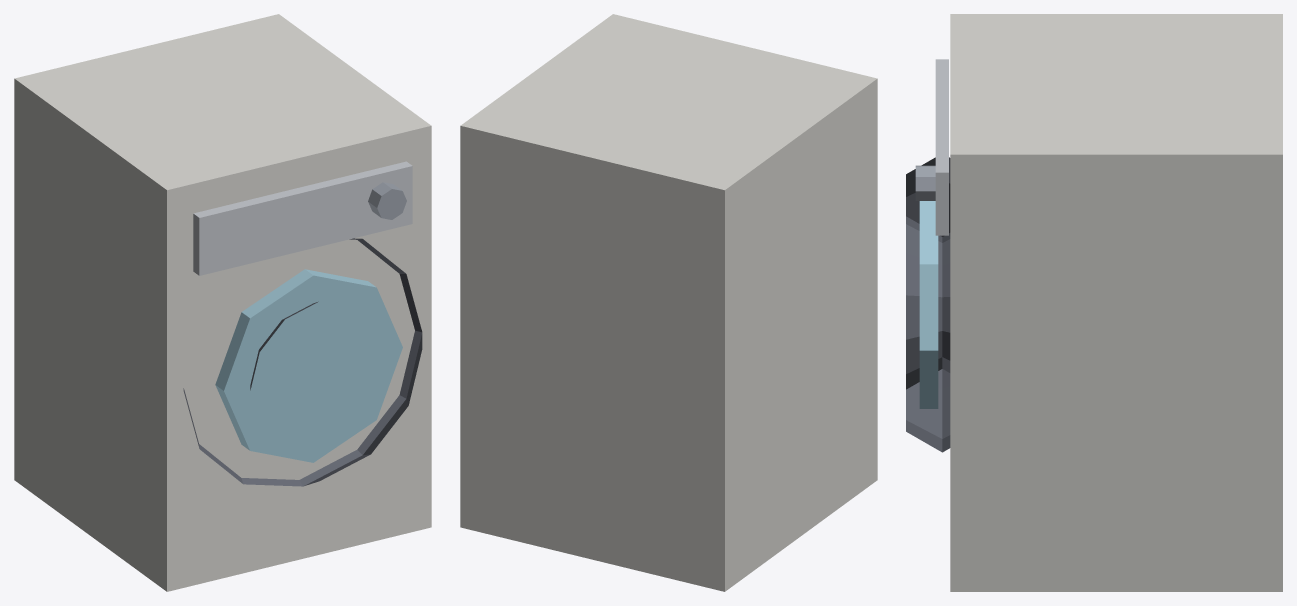
3 views of the same model, side by side, from view 1: azimuth 30°, elevation 25°; view 2: azimuth 150°, elevation 25°; view 3: azimuth 270°, elevation 25° (orthographic). The views are drawn at different scales.
Parts seen in each view (by area): view 1: Body, Window, Panel, Door, Dial; view 2: Body; view 3: Body, Door, Window, Panel, Dial.
Part boxes in pixels (x1,y1,x2,y2): Body: [14, 14, 431, 591]; Window: [215, 269, 402, 462]; Panel: [193, 161, 412, 275]; Door: [183, 238, 422, 486]; Dial: [368, 182, 406, 219]; Body: [460, 14, 877, 591]; Body: [950, 14, 1282, 591]; Door: [906, 157, 950, 452]; Window: [919, 201, 938, 408]; Panel: [935, 59, 948, 235]; Dial: [915, 165, 935, 200].
Size of the model in its own units: 0.62 by 0.9 by 0.7029.
